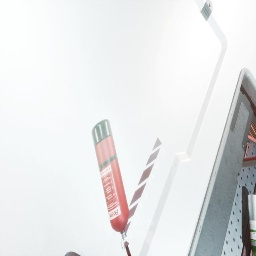0: (248, 194, 256, 256)
FireExtinguisher ]: (91, 119, 132, 256)
NitrogenTank ,: (64, 251, 80, 256)
